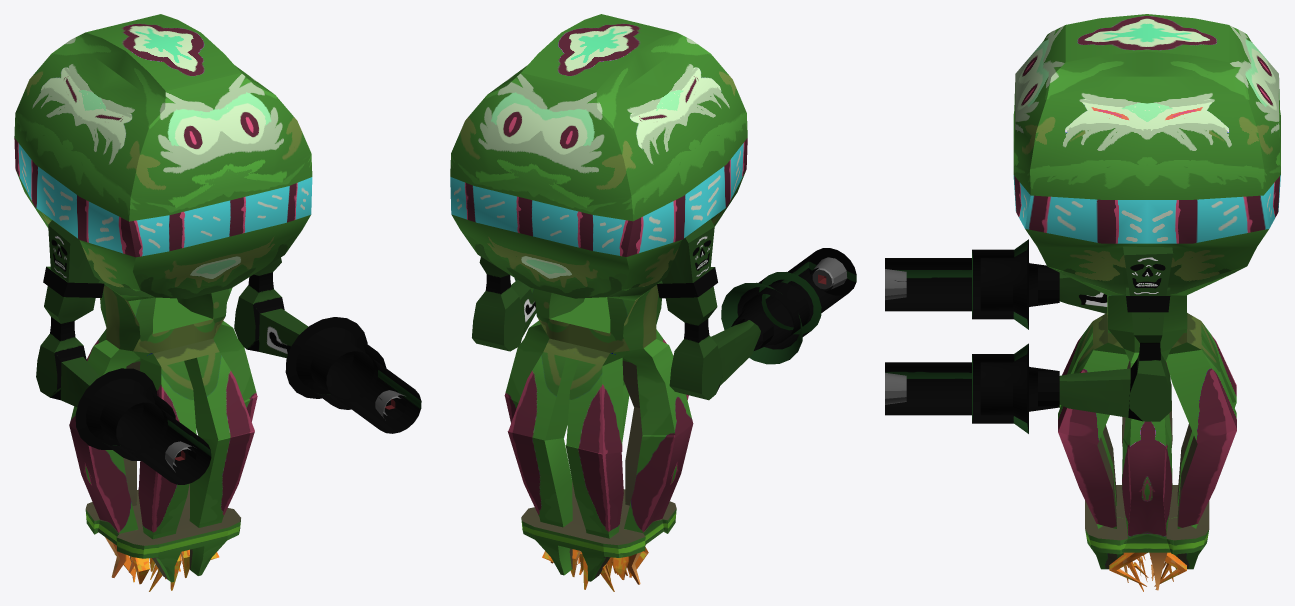
File: jefe.fbx
3 renders of one model, left to right at view 1: azimuth 30°, elevation 25°; view 2: azimuth 150°, elevation 25°; view 3: azimuth 270°, elevation 25°, orthographic.
Visible parts, largest first — view 1: cabeza, guns, parte abajo cuerpo, cuerpo, manos; view 2: cabeza, cuerpo, parte abajo cuerpo, manos, guns; view 3: cabeza, guns, parte abajo cuerpo, cuerpo, manos.
Part boxes in pixels (<box>): cabeza: <box>14,14,312,301</box>; guns: <box>75,317,421,484</box>; parte abajo cuerpo: <box>69,395,257,591</box>; cuerpo: <box>69,284,256,440</box>; manos: <box>36,220,308,407</box>; cabeza: <box>450,14,747,300</box>; cuerpo: <box>504,285,693,454</box>; parte abajo cuerpo: <box>505,384,692,591</box>; manos: <box>472,219,760,400</box>; guns: <box>514,248,856,364</box>; cabeza: <box>1013,14,1280,295</box>; guns: <box>885,239,1059,433</box>; parte abajo cuerpo: <box>1058,383,1236,591</box>; cuerpo: <box>1058,295,1236,449</box>; manos: <box>1059,246,1173,421</box>.
Bounding box in the file's own units: 652 × 1155 × 753.
Materials: 5 (5 with a texture image).
